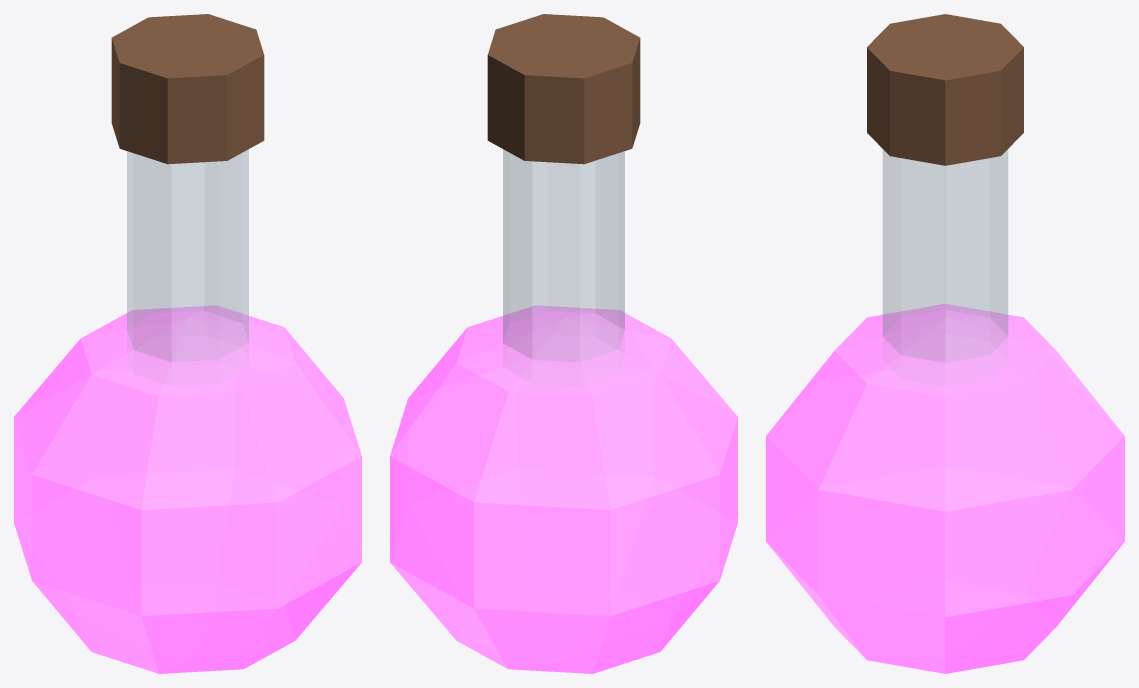
Rendered from artifact_potion.glb.
3 renders of one model, left to right at view 1: azimuth 30°, elevation 25°; view 2: azimuth 150°, elevation 25°; view 3: azimuth 270°, elevation 25°, orthographic.
Parts seen in each view (by area): view 1: artifact_potion; view 2: artifact_potion; view 3: artifact_potion.
Part boxes in pixels (x1,y1,x2,y2): artifact_potion: (14, 14, 361, 673); artifact_potion: (390, 14, 737, 673); artifact_potion: (766, 14, 1124, 673).
Size of the model in its own units: 0.1141 by 0.215 by 0.1141.
